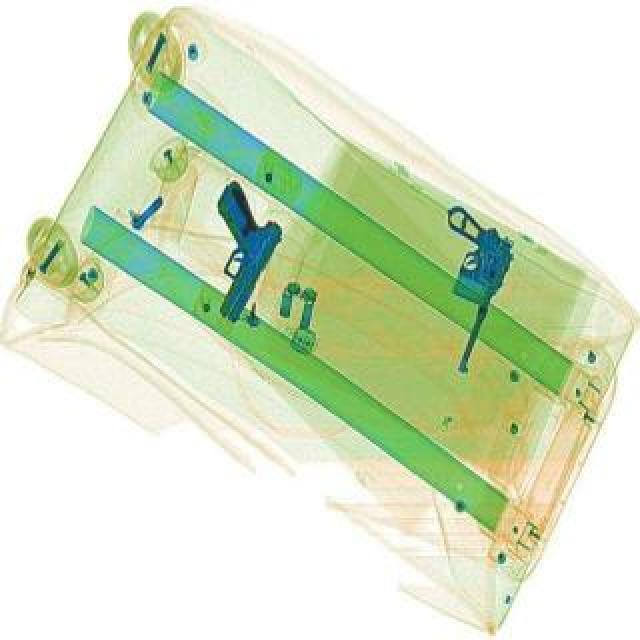gun: (390, 200, 524, 374), (166, 176, 298, 324)
